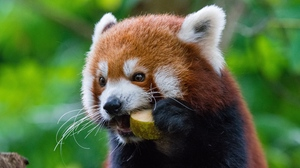red_panda: (68, 6, 275, 168)
